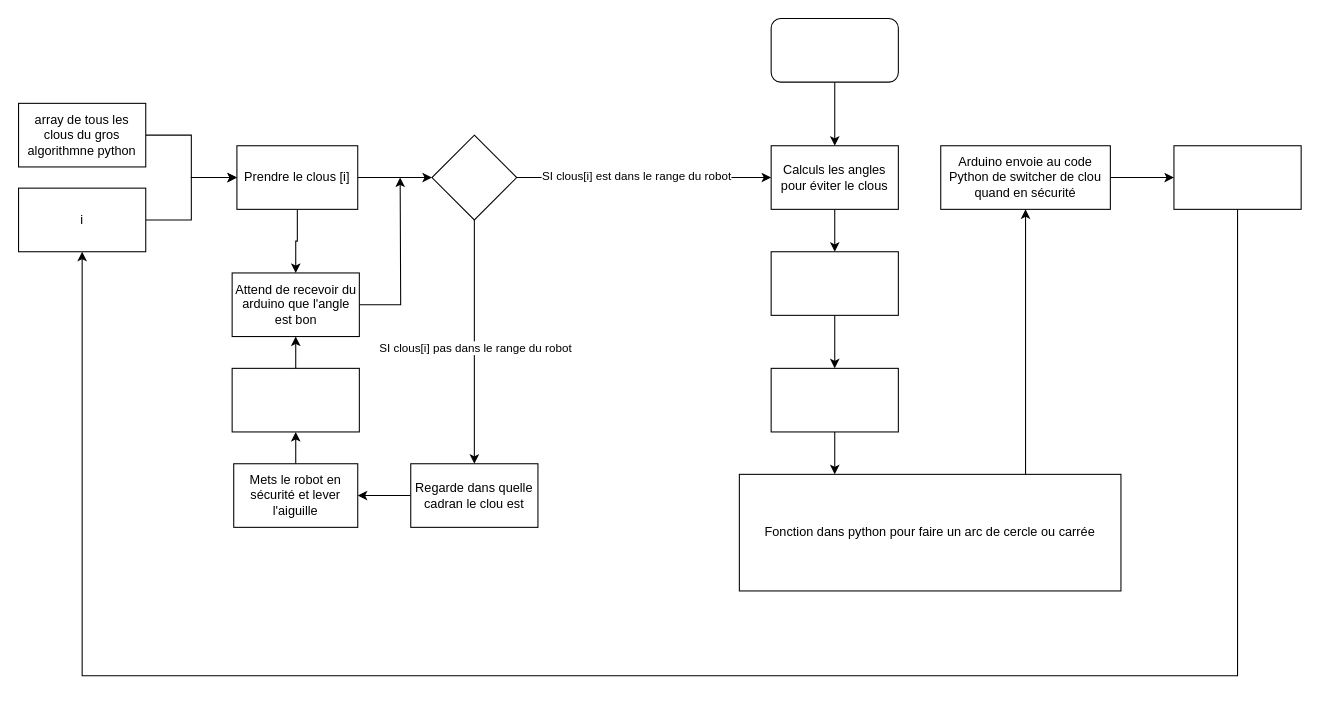
This 1320x703 diagram has some shape labels left out. Here are the shapes that lost their labels. From the top down, the centre of each, then its label:
[834,49]: Array avec la position XY de chaque clous
[1237,177]: Python incremente i
[834,283]: Envoie les angles moteur au arduino
[295,399]: Envoie la commande pour tourner la table tournante
[834,399]: Attend que les moteurs soit au bons angle
